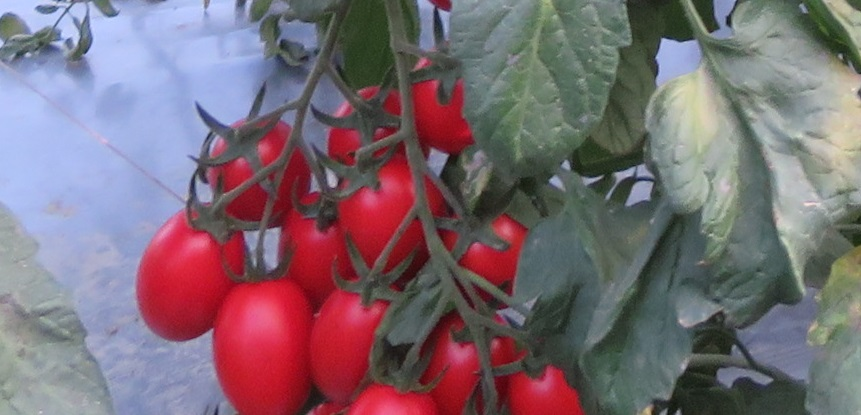red: (135, 203, 248, 343), (211, 274, 313, 413), (334, 157, 451, 272), (310, 275, 405, 398), (207, 118, 313, 226), (426, 312, 521, 415), (326, 81, 431, 172), (438, 213, 533, 307), (407, 43, 481, 157), (277, 190, 354, 293), (504, 354, 587, 415), (350, 380, 439, 415)
